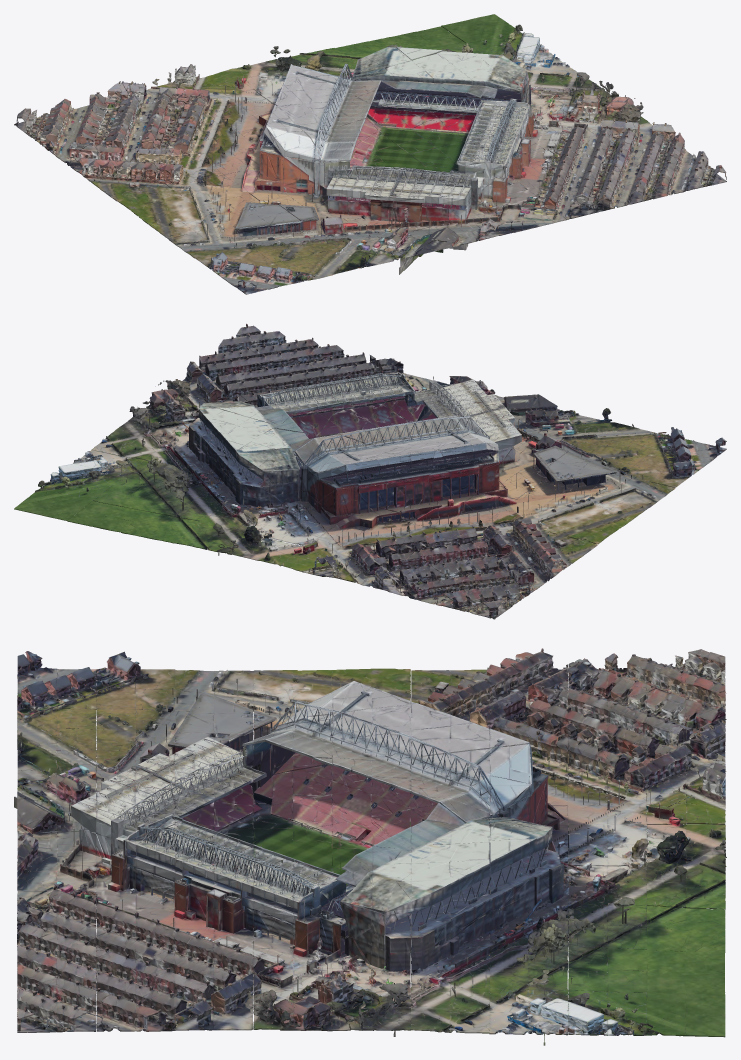
The model's file is anfield_stadium.glb.
3 views of the same model, one above another, from view 1: azimuth 30°, elevation 25°; view 2: azimuth 150°, elevation 25°; view 3: azimuth 270°, elevation 25° (orthographic). The views are drawn at different scales.
Parts seen in each view (by area): view 1: ProcessedMeshNode_LOD1_0; view 2: ProcessedMeshNode_LOD1_0; view 3: ProcessedMeshNode_LOD1_0.
Boxes of the visible parts, x1,y1,x2,y2 form: ProcessedMeshNode_LOD1_0: (14, 14, 726, 294); ProcessedMeshNode_LOD1_0: (14, 323, 726, 619); ProcessedMeshNode_LOD1_0: (14, 648, 726, 1045).
Bounding box in the file's own units: 412 × 80.43 × 346.
Materials: 1 (1 with a texture image).
